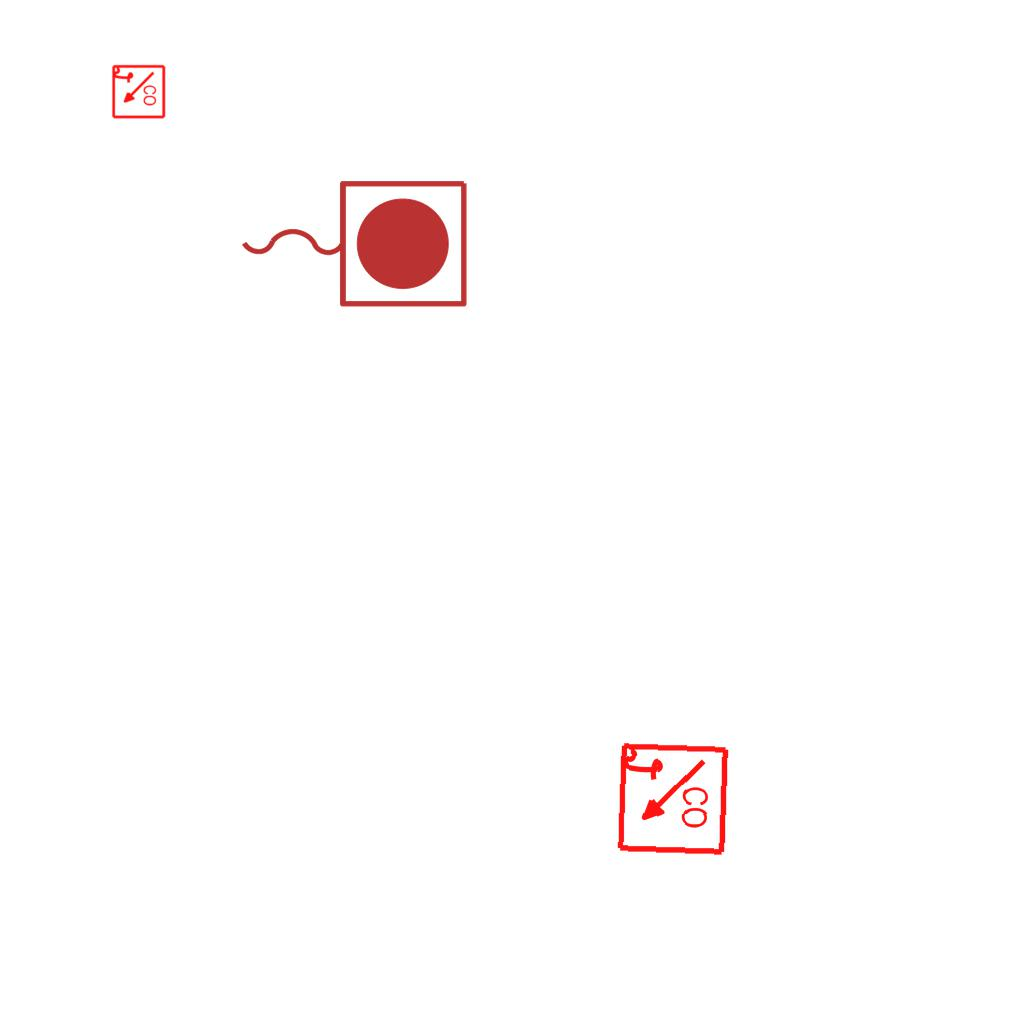ROA_Rauchmelder_optisch_mit_Signalgeber_(Sockelsirene): (613, 741, 730, 858), (110, 64, 166, 120)
Zugtaster: (231, 170, 475, 314)
